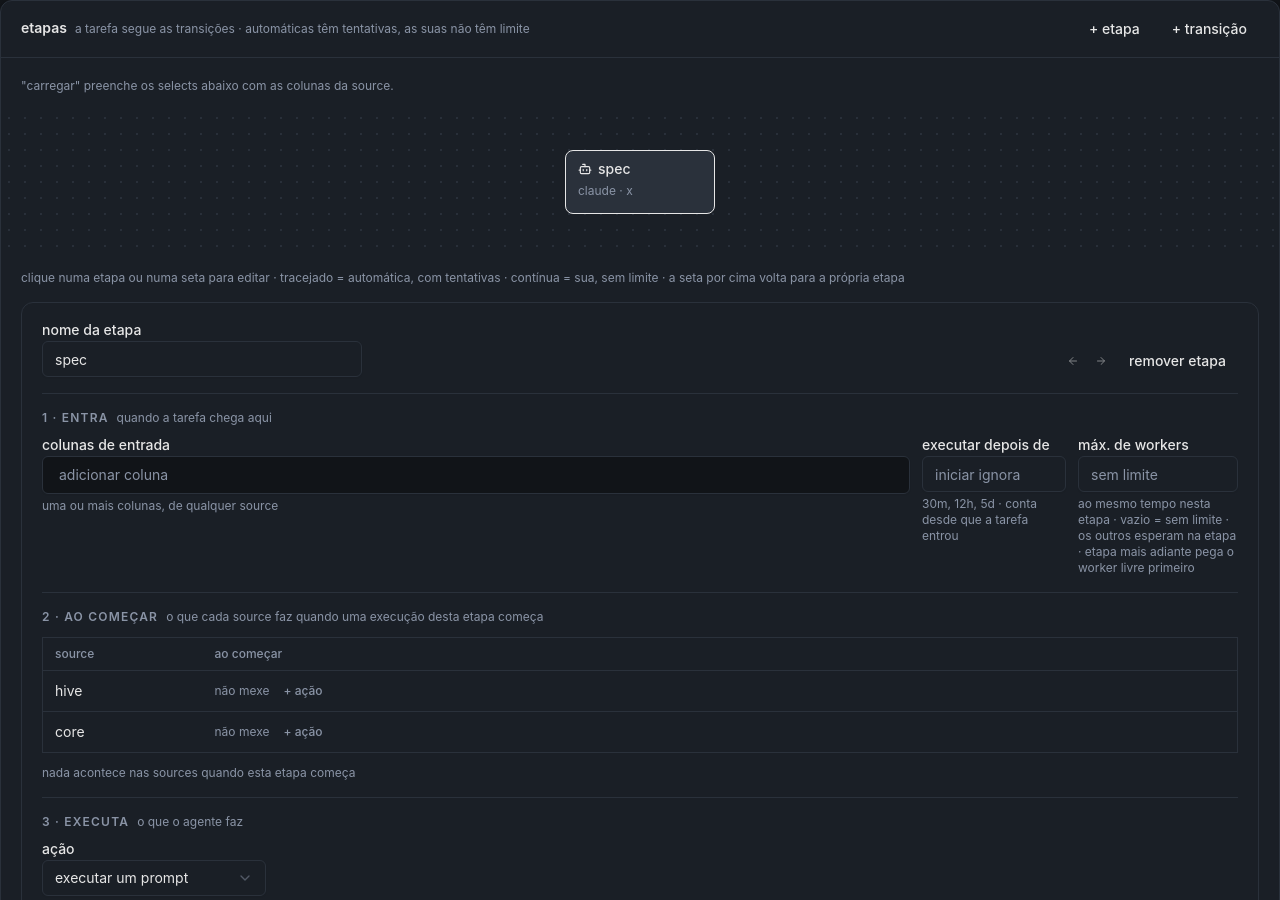
Scenario: executa: só aprovação locks exige aprovação on and hides the prompt; vereditos are chips with + veredito, and none reads nenhum (#134)
The width and height of the screenshot is (1280, 900).
Click the dropdown named "ação" at (154, 878), box [42,860,266,896]
(page scrolled)
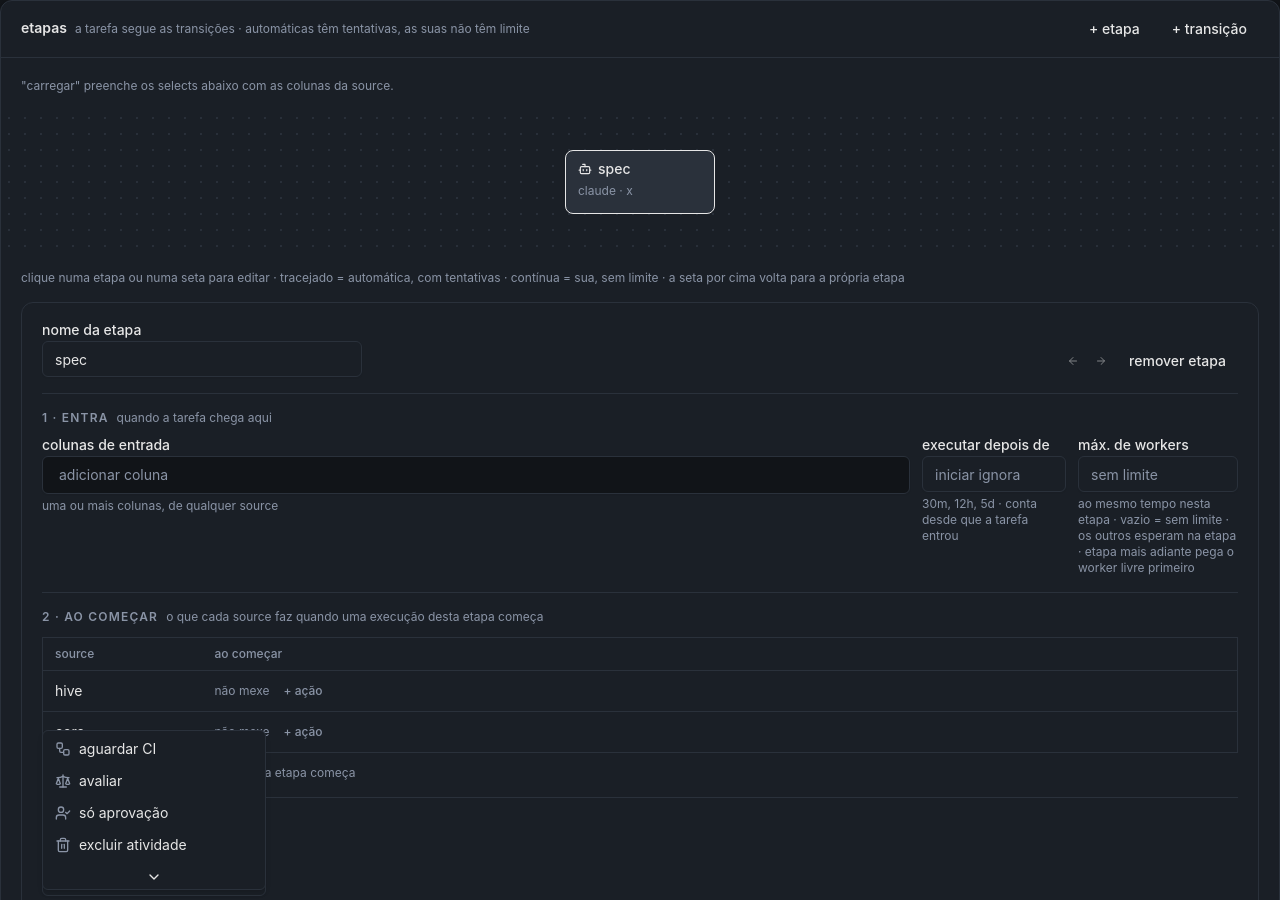
Click the option "só aprovação" at (112, 812), box [55,804,168,821]
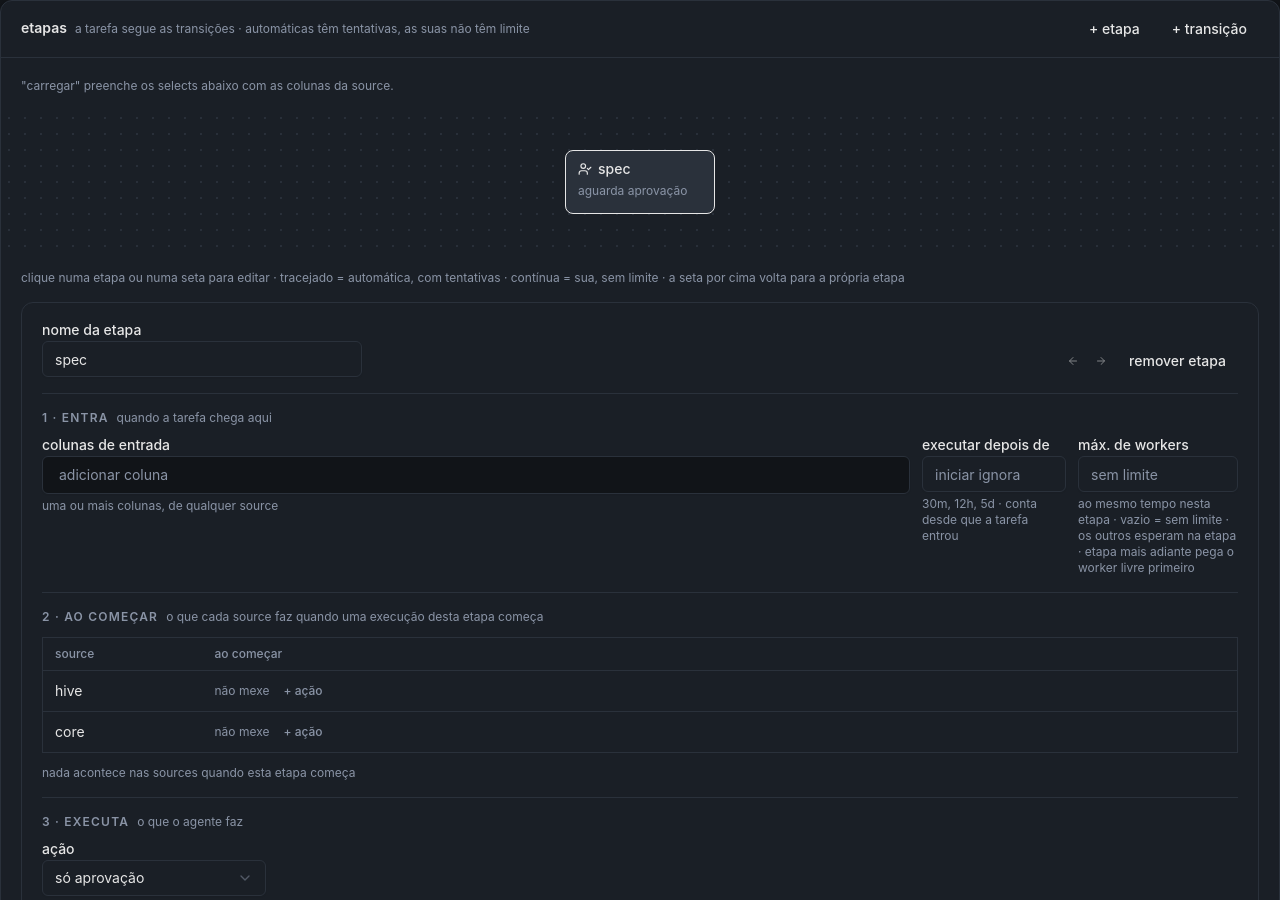
Now the dropdown labelled "prompt" is gone
Click the dropdown labelled "ação" at (154, 878), box [42,860,266,896]
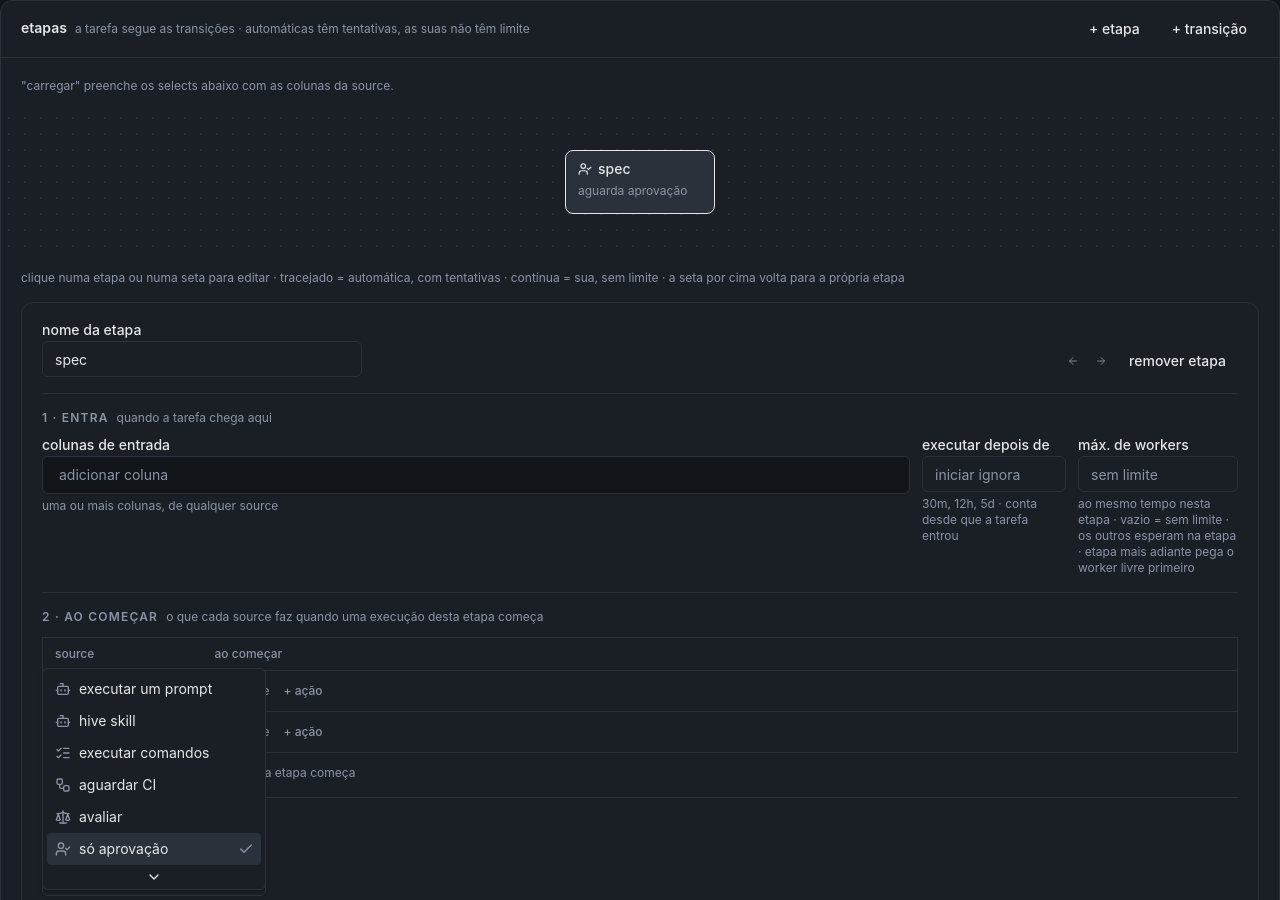
Click the option "executar um prompt" at (134, 688), box [55,680,212,697]
(page scrolled)
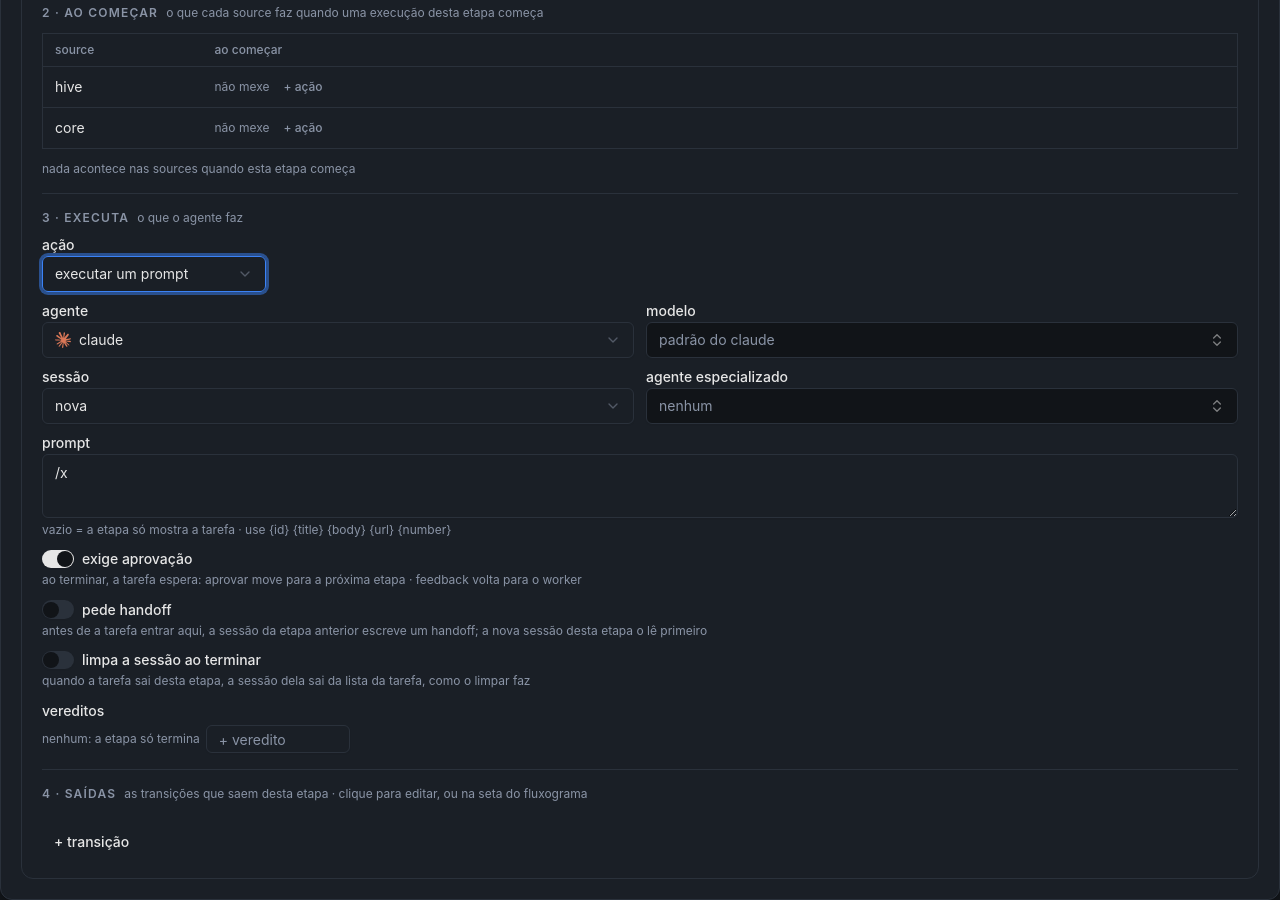
Type "redo" into the field labelled "+ veredito" at (278, 739), box [206,725,350,753]
Then press Enter
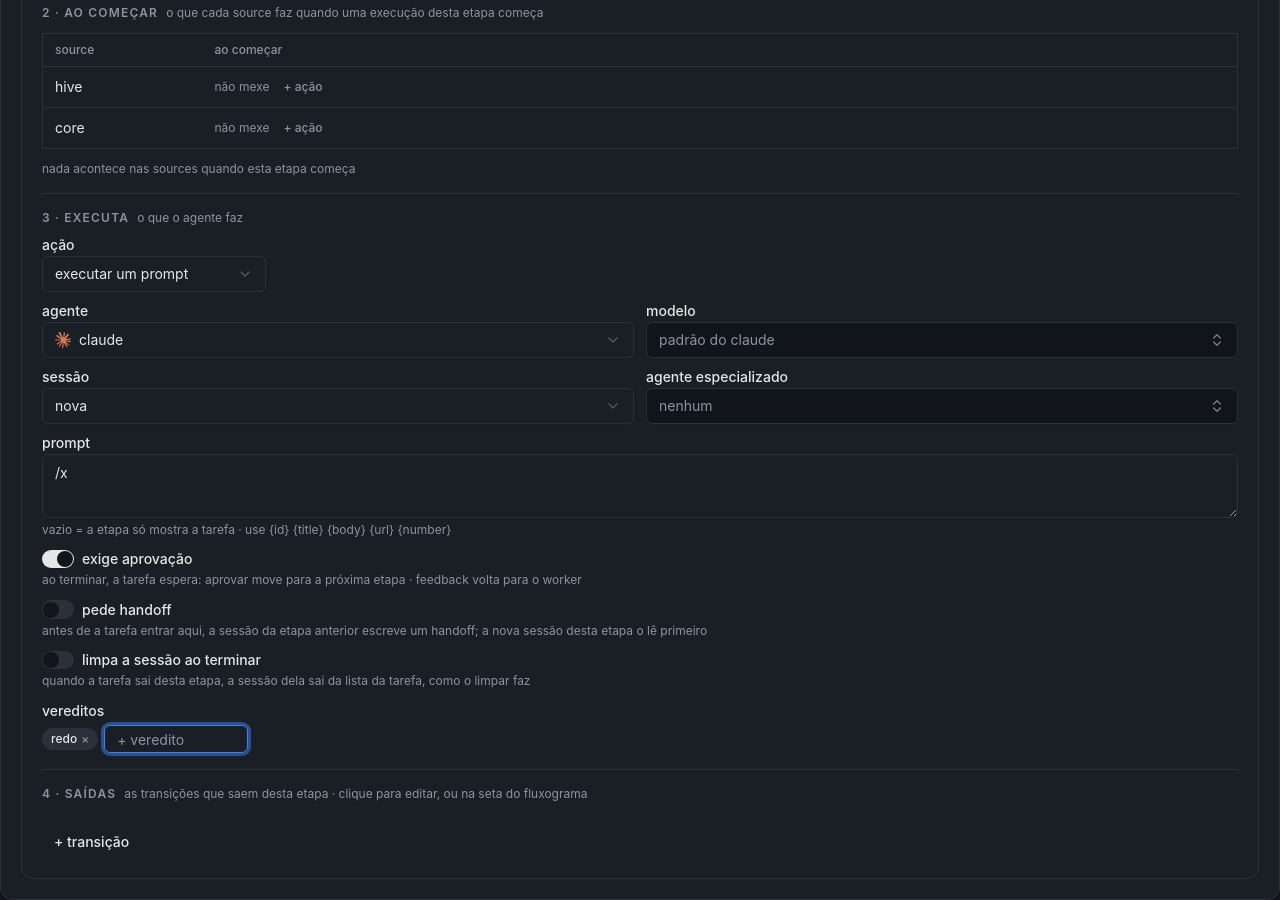
Click the button named "remover redo" at (85, 739), box [81,731,89,747]
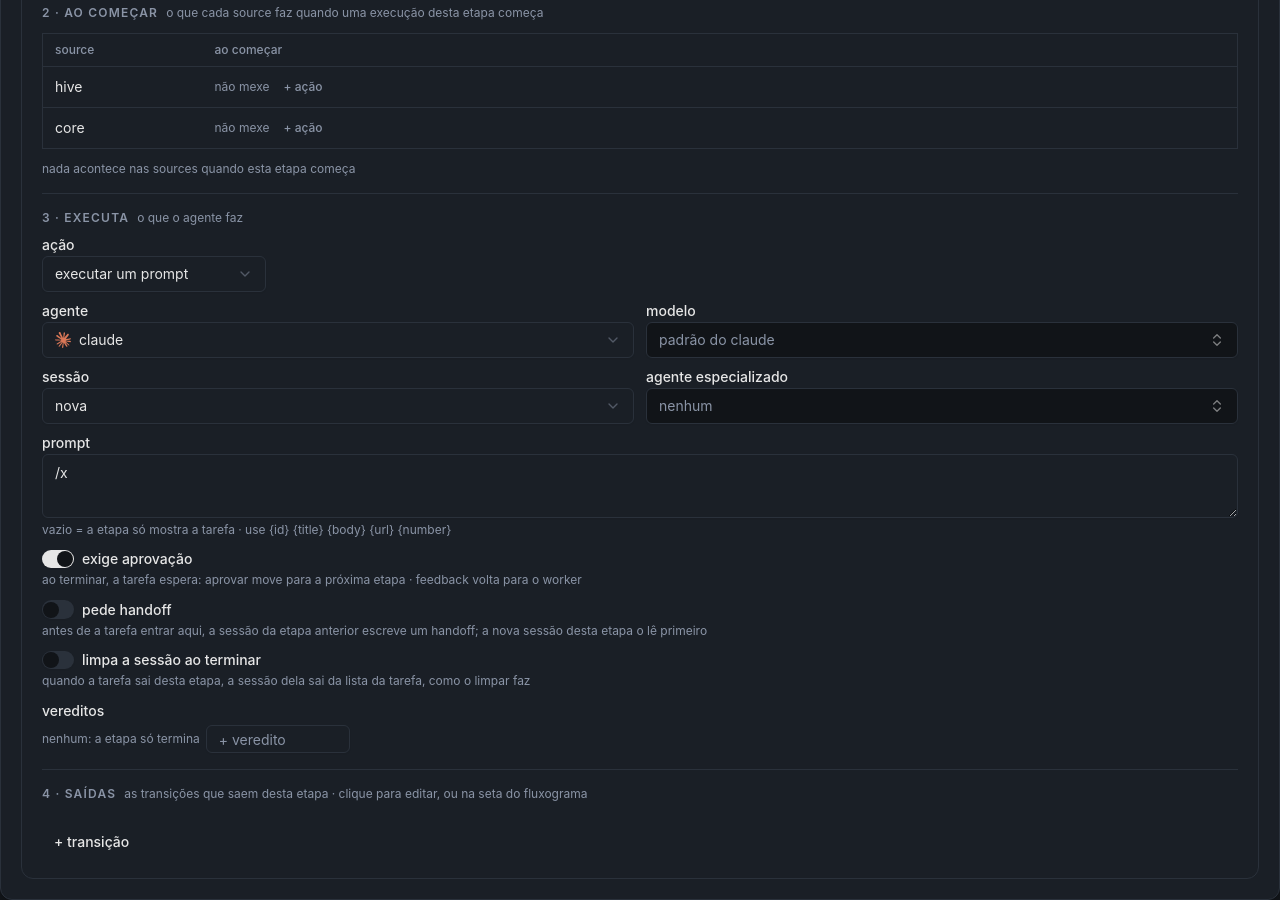
Now the text "nenhum: a etapa só termina" is shown, box [42,731,200,747]
